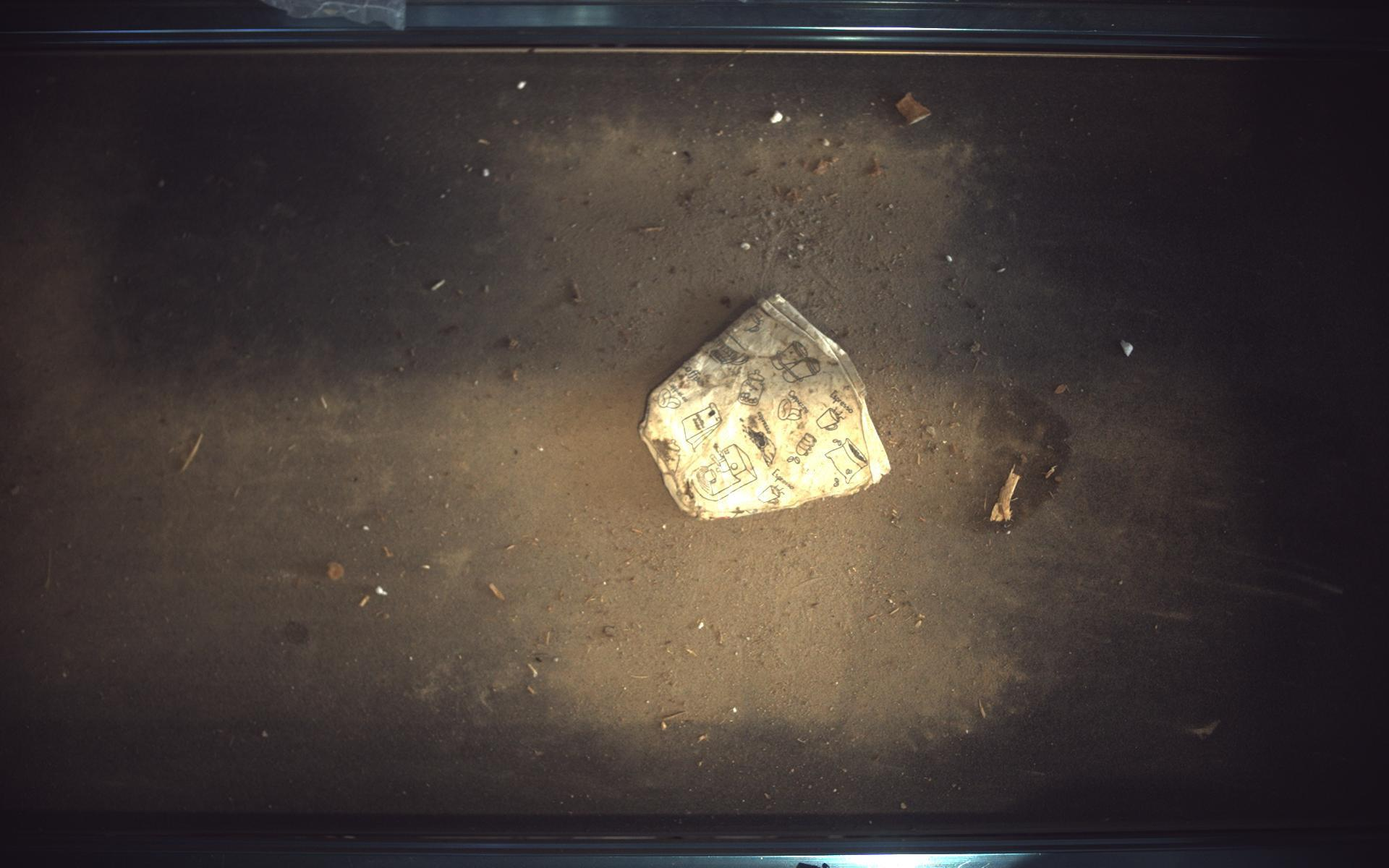general_w: (640, 294, 892, 519)
